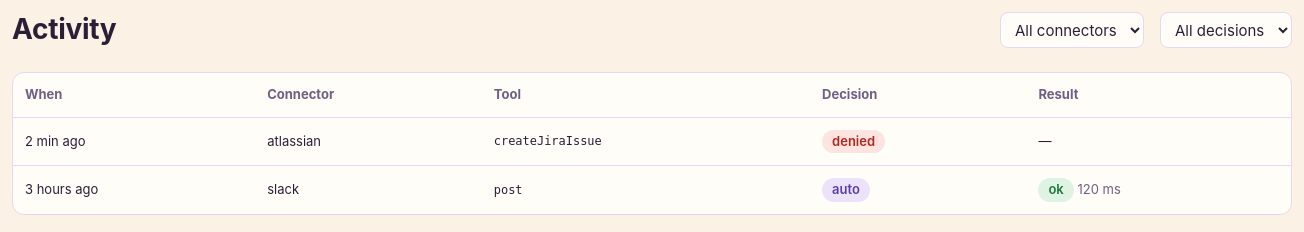
it: Activity filters and empty state › shows relative times and filters by connector
The width and height of the screenshot is (1304, 232).
Expected: the text "2 min ago" is shown, [13,117,255,166]
Expected: the text "3 hours ago" is shown, [13,166,255,214]
Select "slack" in the dropdown named "Filter by connector": point(1072, 30) [1000,12,1144,48]
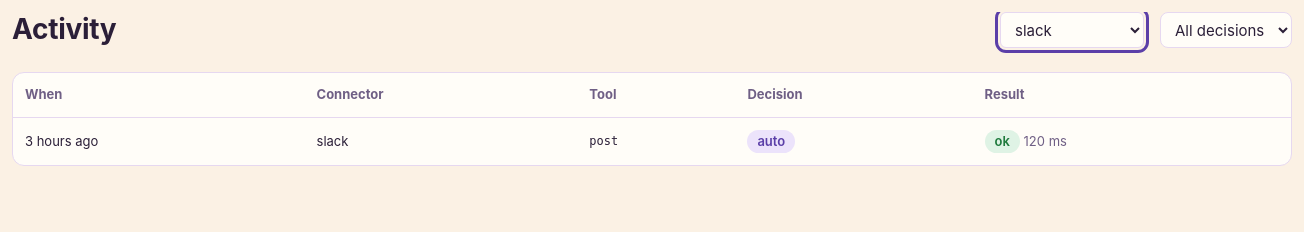
Expected: the text "post" is shown, [589,134,618,148]
Result: the text "createJiraIssue" is gone
